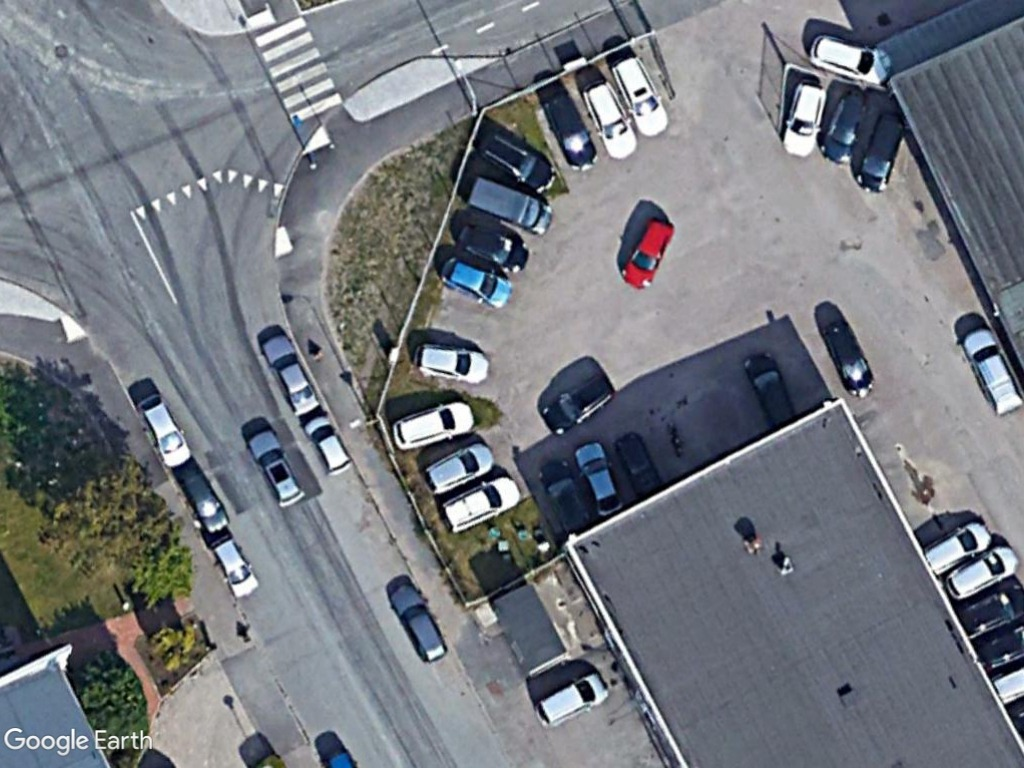car: (957, 324, 1024, 419), (477, 128, 561, 198), (435, 472, 524, 538), (540, 370, 621, 440), (611, 53, 672, 141), (540, 87, 602, 173), (261, 334, 323, 420), (389, 582, 450, 668), (245, 427, 308, 510), (579, 76, 639, 163), (132, 390, 194, 474), (851, 107, 910, 195), (533, 666, 611, 732), (389, 400, 478, 456), (819, 318, 877, 402), (741, 347, 800, 428), (807, 32, 892, 88), (942, 539, 1022, 597), (439, 255, 517, 314), (453, 221, 532, 279), (421, 441, 497, 498), (175, 463, 233, 536), (620, 216, 675, 291), (923, 518, 994, 576), (819, 85, 871, 164), (573, 437, 623, 517), (412, 339, 495, 387), (298, 409, 356, 477), (782, 78, 830, 159), (207, 533, 262, 600)
van: (463, 173, 558, 239)
